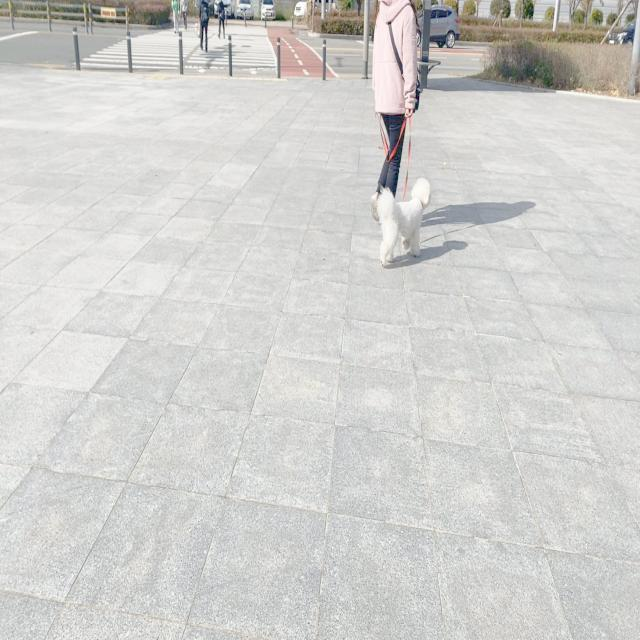Leashed_Dog: (378, 97, 433, 270)
